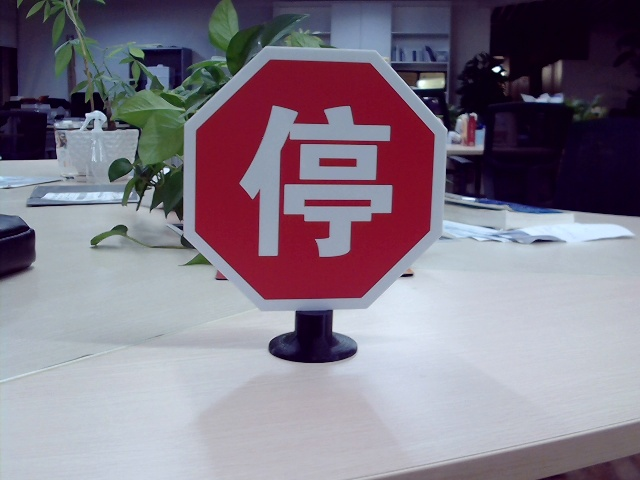stop: (234, 104, 396, 257)
